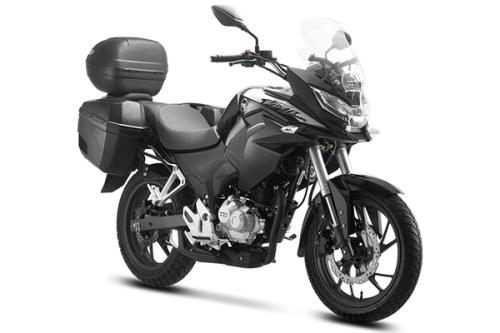motor: (77, 9, 419, 325)
